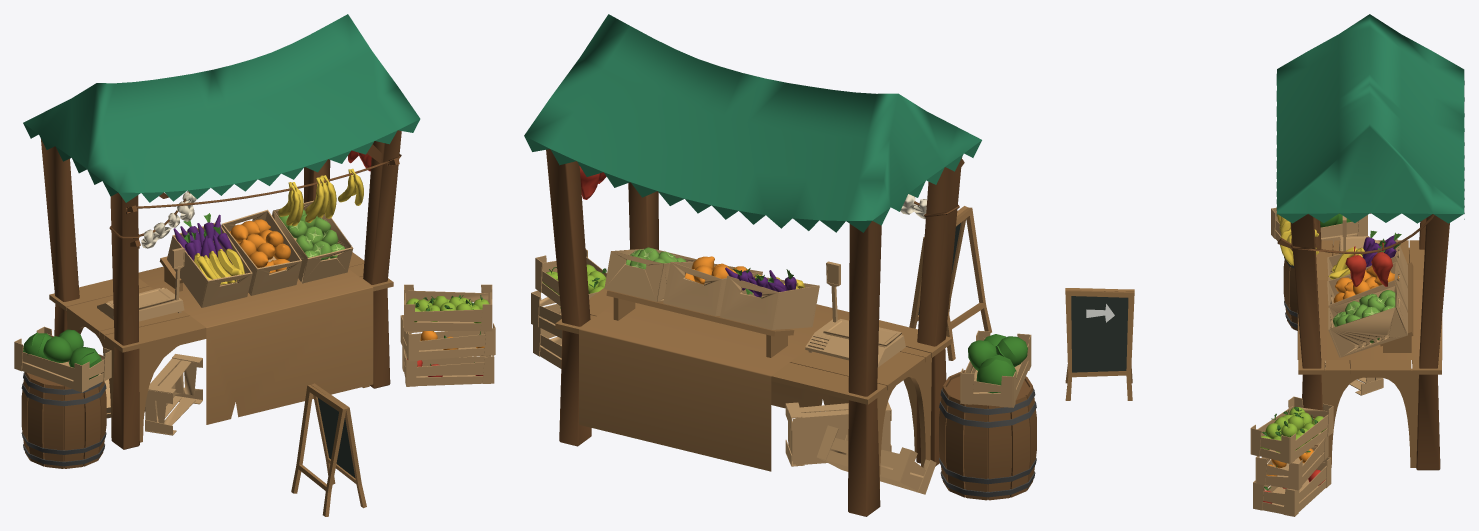
The model's file is stall-b.glb.
3 renders of one model, left to right at view 1: azimuth 30°, elevation 25°; view 2: azimuth 150°, elevation 25°; view 3: azimuth 270°, elevation 25°, orthographic. The views are drawn at different scales.
Parts seen in each view (by area): view 1: stall_b; view 2: stall_b; view 3: stall_b.
Part boxes in pixels (box(x1,y1,x2,y2)): stall_b: box(14, 14, 495, 516); stall_b: box(524, 14, 1036, 516); stall_b: box(1065, 14, 1464, 516).
Bounding box in the file's own units: 3.5 × 2.6 × 2.76.
